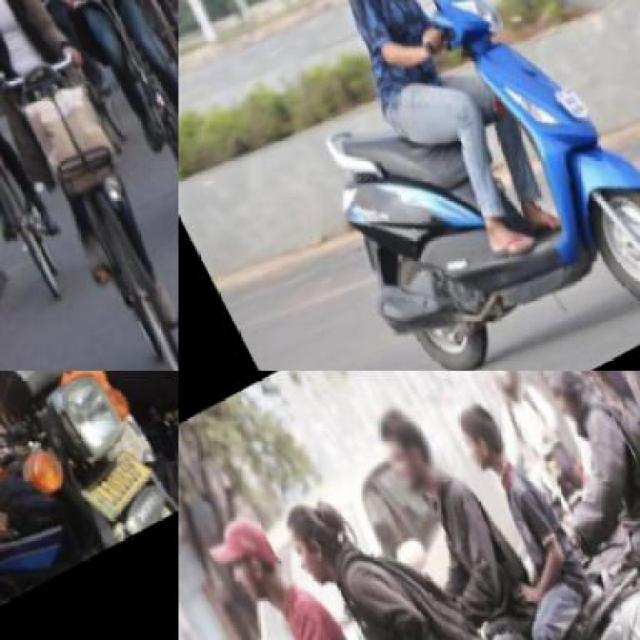With Helmet: (478, 371, 532, 411)
Without Helmet: (191, 492, 292, 620), (358, 380, 451, 508), (273, 493, 359, 595), (512, 371, 611, 452), (450, 403, 512, 483)
